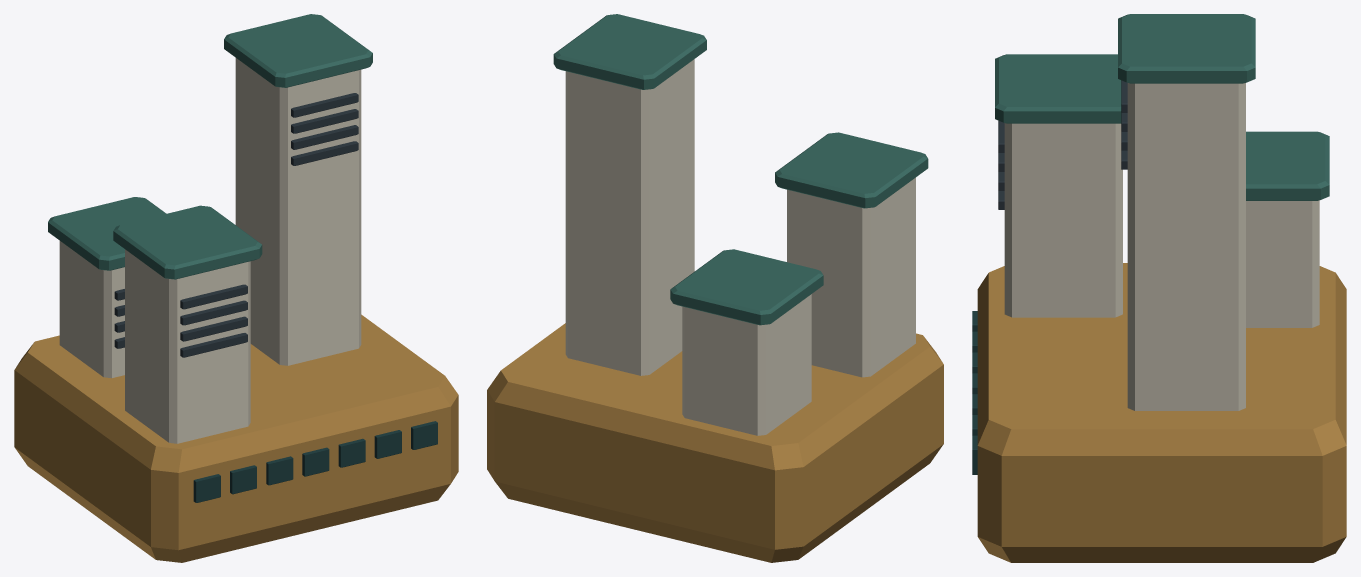
File: kharon_windcatcher.glb
3 renders of one model, left to right at view 1: azimuth 30°, elevation 25°; view 2: azimuth 150°, elevation 25°; view 3: azimuth 270°, elevation 25°, orthographic. The views are drawn at different scales.
Visible parts, largest first — view 1: kharon_windcatcher; view 2: kharon_windcatcher; view 3: kharon_windcatcher.
Part boxes in pixels (<box>): kharon_windcatcher: <box>14,14,458,562</box>; kharon_windcatcher: <box>487,14,943,562</box>; kharon_windcatcher: <box>972,14,1346,562</box>.
Bounding box in the file's own units: 17 × 21.58 × 15.22.
